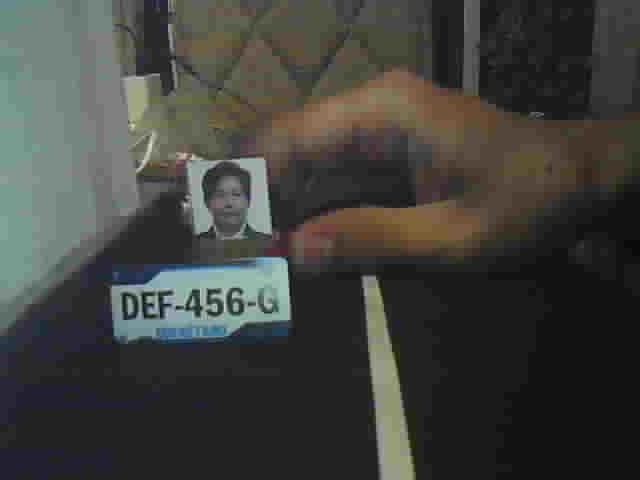PLACA: (106, 253, 294, 347)
ROSTRO: (192, 156, 273, 242)
